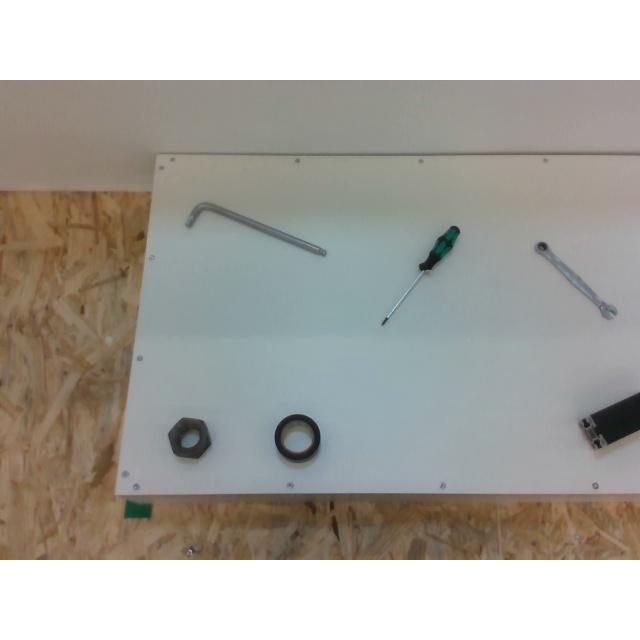AllenKey: (186, 202, 326, 256)
M30: (168, 418, 212, 458)
S40_40_B: (579, 393, 640, 449)
Screwdriver: (380, 226, 460, 326)
Wrench: (534, 240, 618, 320)
